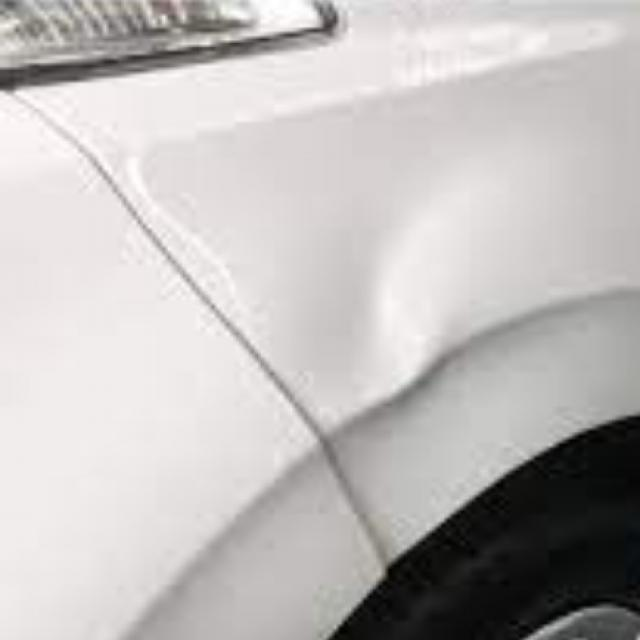dents: (325, 227, 472, 402)
